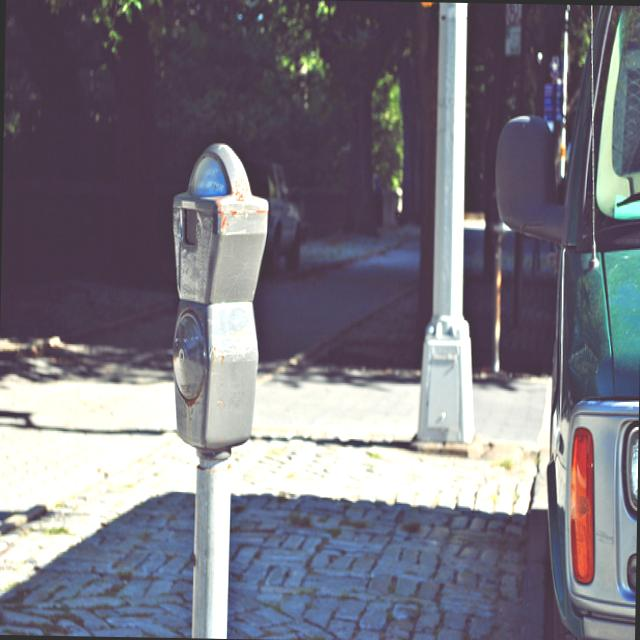Vehicle: (486, 3, 640, 640), (240, 158, 302, 277)
